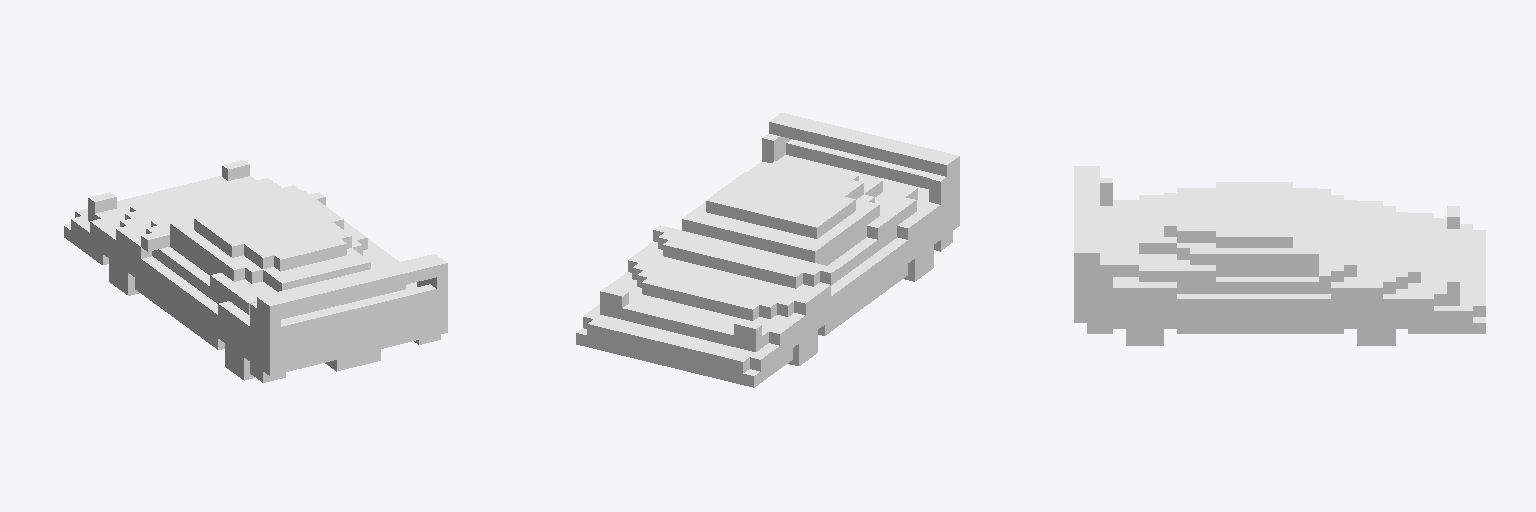
The model's file is F40.vox.obj.
3 renders of one model, left to right at view 1: azimuth 30°, elevation 25°; view 2: azimuth 150°, elevation 25°; view 3: azimuth 270°, elevation 25°, orthographic.
Visible parts, largest first — view 1: object 1; view 2: object 1; view 3: object 1.
Boxes of the visible parts, box(x1,y1,x2,y2) form: object 1: box(64, 160, 447, 382); object 1: box(576, 113, 959, 387); object 1: box(1074, 166, 1485, 345).
Size of the model in its own units: 1.6 by 0.8 by 3.2.